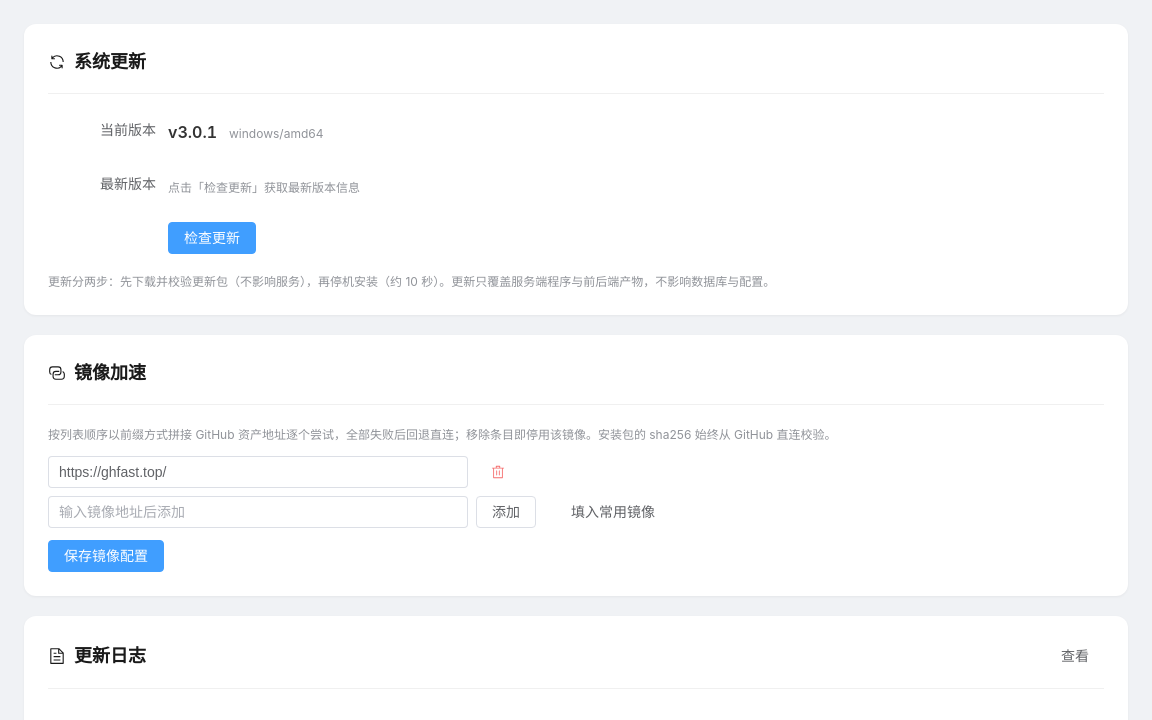
Test: UpdateManage 镜像管理 › 填入常用镜像：去重追加
Expected: the number of elements with class "mirror-row" is 1, x1=48 y1=456 x2=520 y2=488
Step 1. Click the button "填入常用镜像" → (613, 512), box x1=556 y1=496 x2=670 y2=528
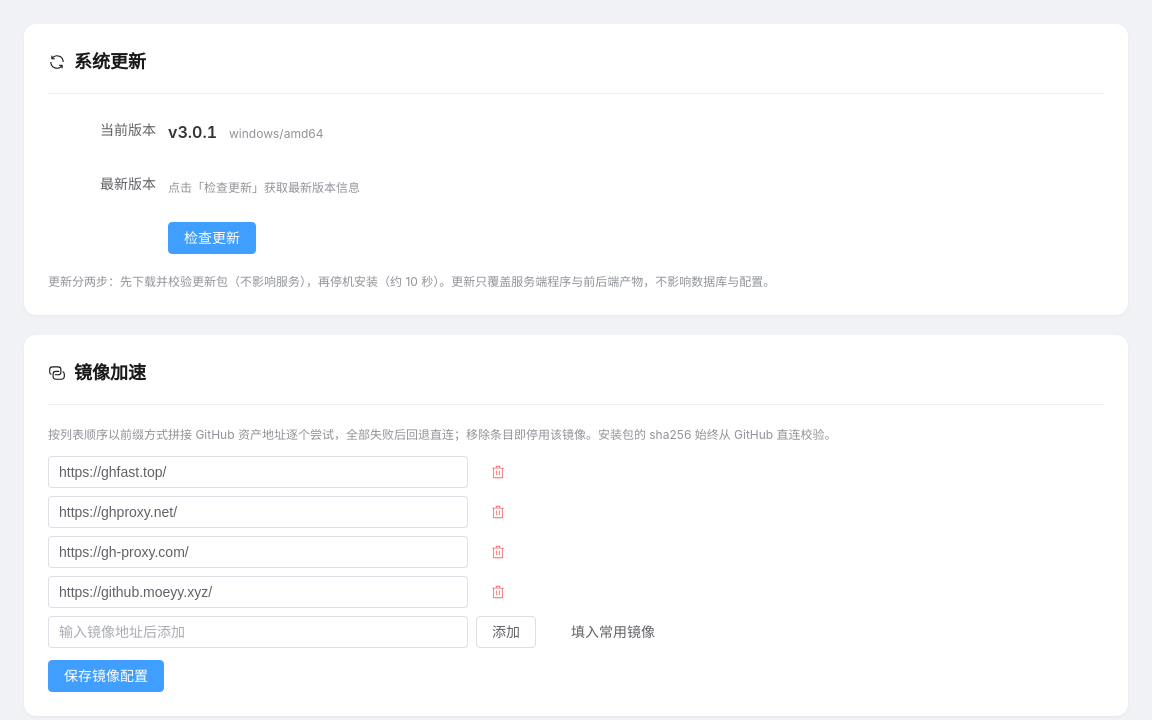
Expected: the number of elements with class "mirror-row" is 4, x1=48 y1=456 x2=520 y2=488; x1=48 y1=496 x2=520 y2=528; x1=48 y1=536 x2=520 y2=568; x1=48 y1=576 x2=520 y2=608
